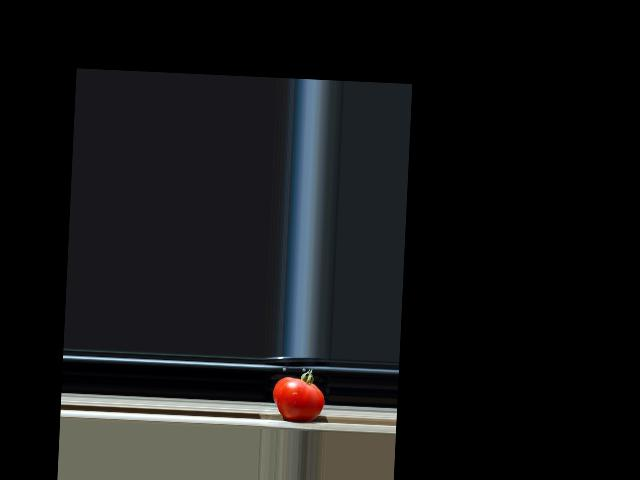tomato: (272, 367, 325, 422)
